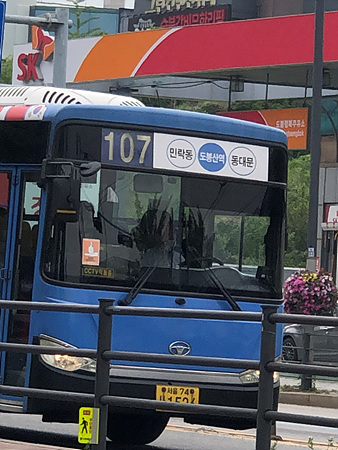bnum: (101, 128, 153, 165)
